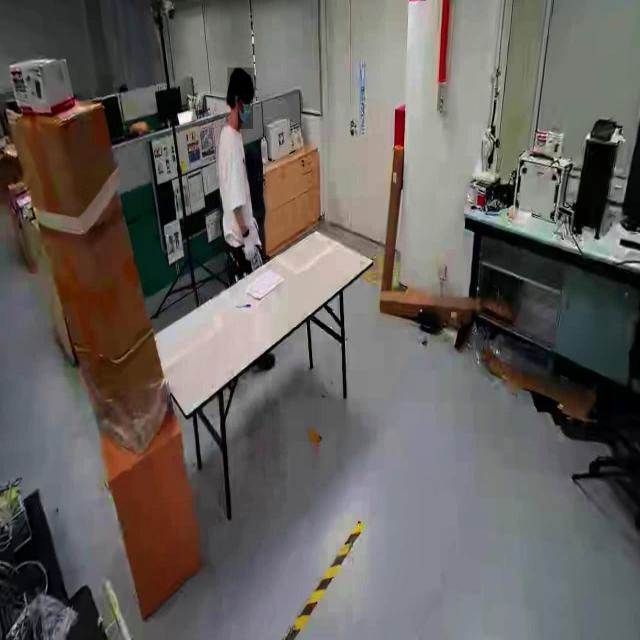face_mask: (238, 97, 253, 129)
hand_glove: (238, 226, 258, 266)
head_nohelmet: (227, 68, 255, 94)
person: (206, 68, 264, 280)
